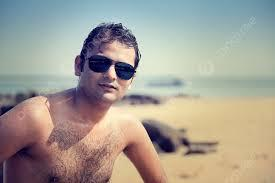sunglasses: (88, 52, 143, 84)
